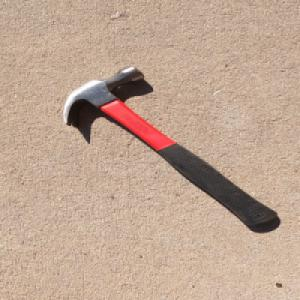Hammer: (60, 64, 282, 228)
